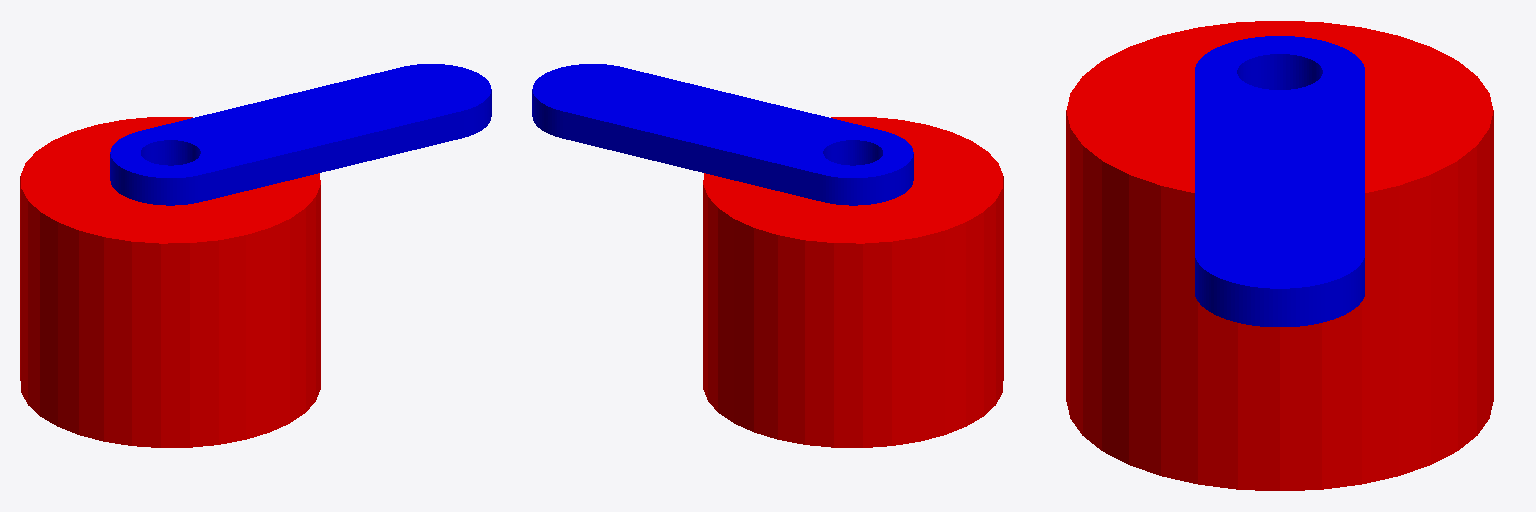
URDF robot description (simple_robot):
<?xml version="1.0"?>
<robot name="simple_robot">
    <link name="base_link">
        <visual>
            <origin xyz="0.0 0.0 0.125" rpy="0.0 0.0 0.0"/>
            <geometry>
                <cylinder radius="0.5" length="0.75"/>
            </geometry>
            <material name="base_material">
                <color rgba="1.0 0.0 0.0 1.0"/>
            </material>
        </visual>
    </link>
    <link name="link1">
        <visual>
            <origin xyz="0.0 0.0 0.0" rpy="0.0 0.0 0.0"/>
            <geometry>
                <mesh filename="package://robot_viz/urdf/meshes/link1_body.stl" scale="0.001 0.001 0.001" />
            </geometry>
            <material name="link1_material">
                <color rgba="0.0 0.0 1.0 1.0"/>
            </material>
        </visual>        
    </link>
    <joint name="joint1" type="revolute">
        <origin xyz="0.0 0.0 0.5" rpy="0.0 0.0 0.0"/>
        <limit lower="0.0" upper="3.1415926" effort="10.0" velocity="6.283"/>
        <axis xyz="0.0 0.0 1.0"/>
        <parent link="base_link"/>
        <child link="link1"/>        
    </joint>
</robot>

--- Facts derived from the render (not from the file) ---
Views: 3 orthographic renders of the robot side by side, from view 1: azimuth 30°, elevation 25°; view 2: azimuth 150°, elevation 25°; view 3: azimuth 270°, elevation 25°.
Model simple_robot with 2 links and 1 joints (1 revolute), rooted at base_link, posed all joints at 0.
Links seen in each view (by area): view 1: base_link, link1; view 2: base_link, link1; view 3: base_link, link1.
Boxes of the visible links, x1=… form: base_link: x1=20, y1=117, x2=320, y2=447; link1: x1=110, y1=64, x2=491, y2=205; base_link: x1=703, y1=117, x2=1003, y2=447; link1: x1=532, y1=64, x2=913, y2=205; base_link: x1=1066, y1=21, x2=1493, y2=490; link1: x1=1195, y1=36, x2=1364, y2=326.
Bounding box of the posed robot: 1.7 × 1 × 0.85 m (x, y, z).
1 mesh visuals loaded from 1 distinct referenced files (1 binary STL).